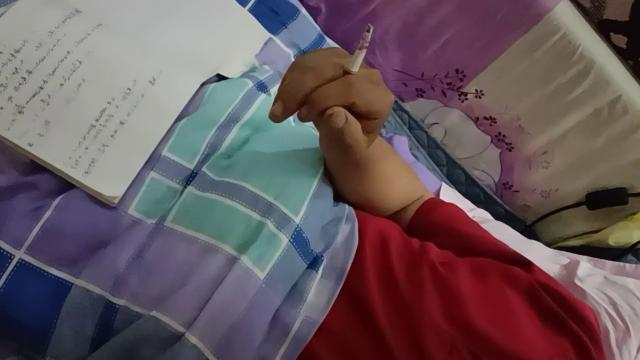Smoking: (341, 23, 375, 83)
